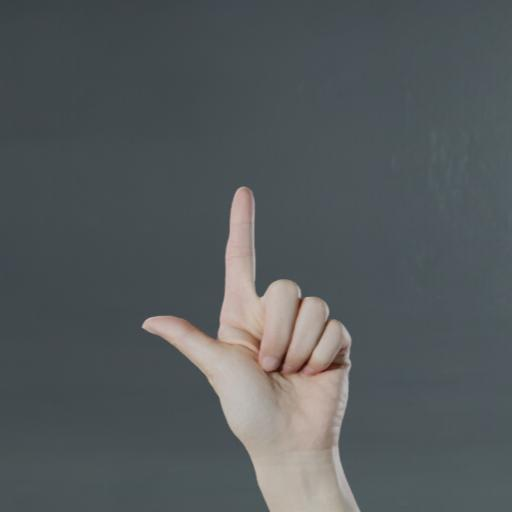L: (111, 179, 432, 512)
